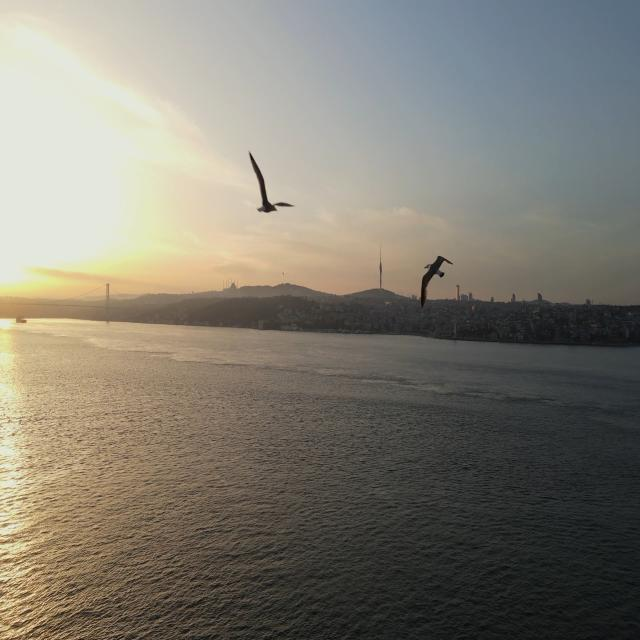bird: (242, 148, 298, 225), (409, 234, 459, 311)
